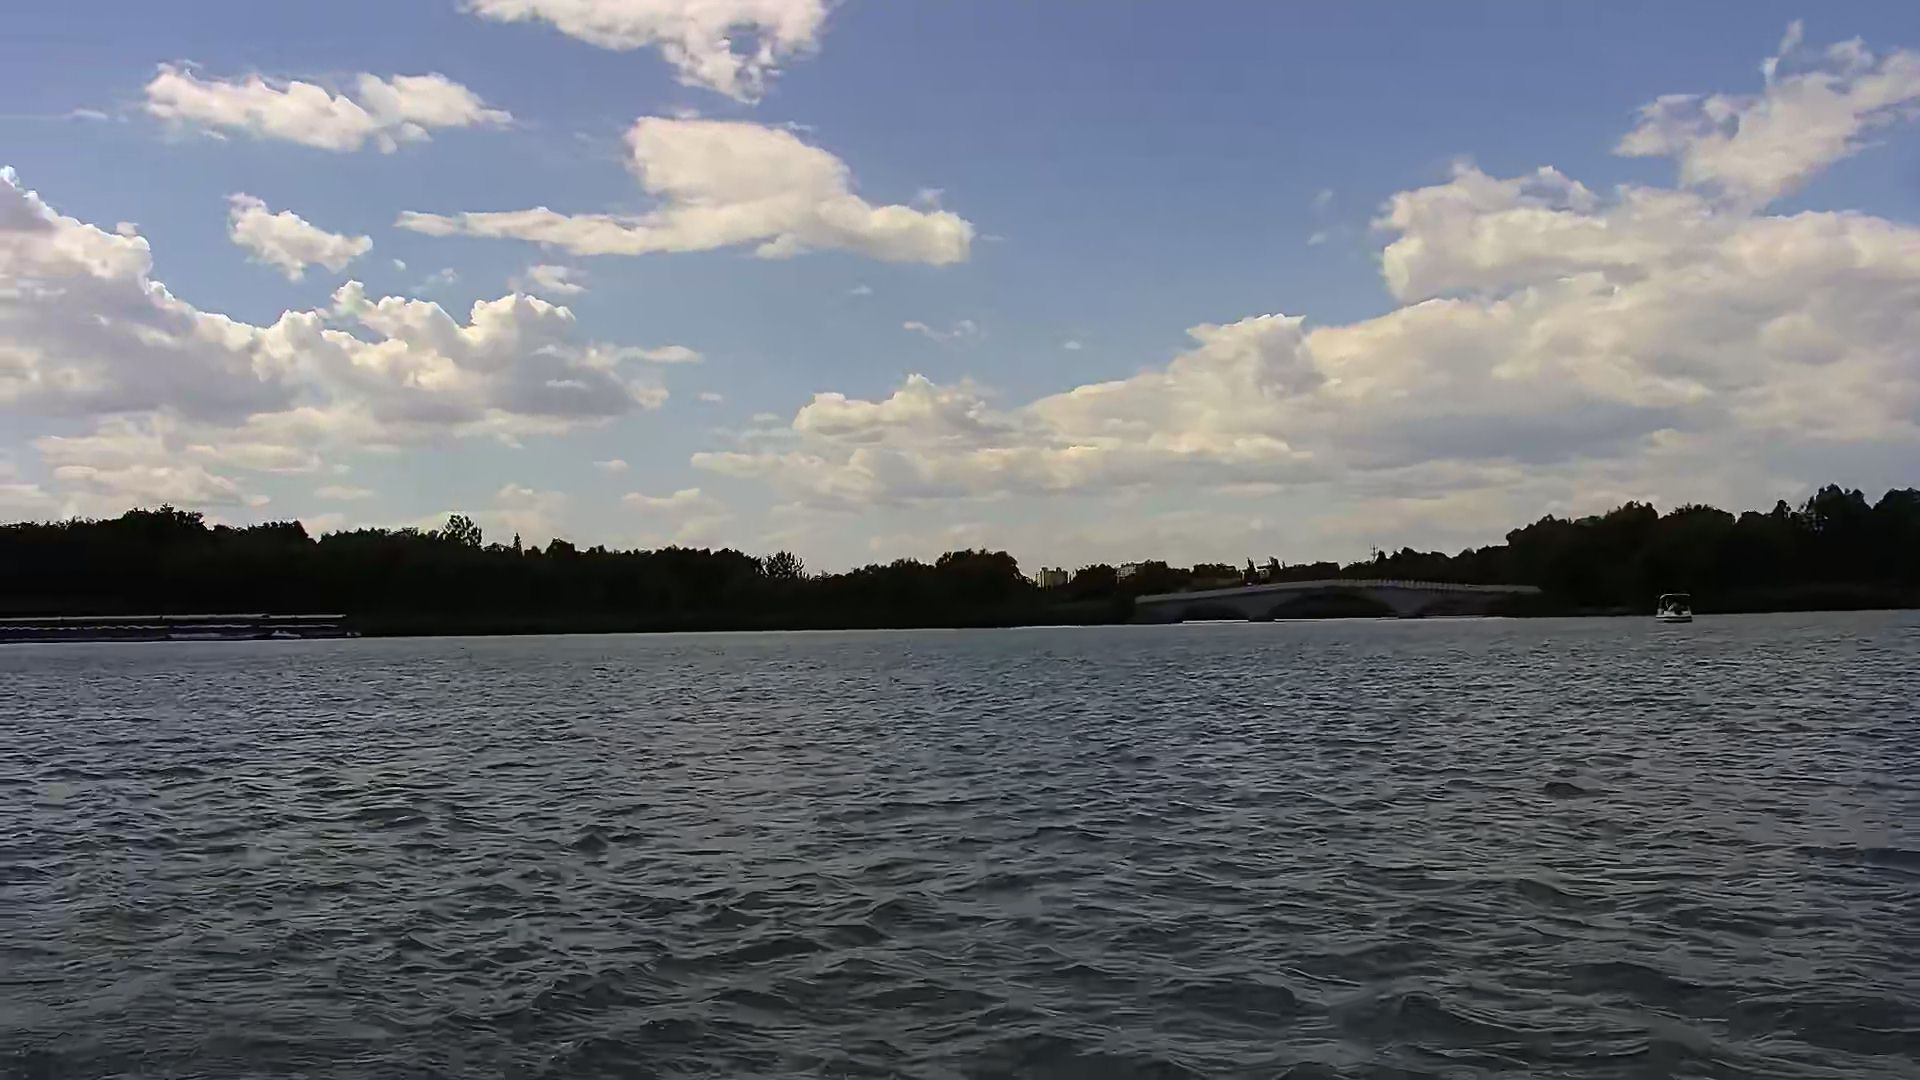boat: (1651, 578, 1702, 626)
bridge: (1135, 580, 1553, 624)
